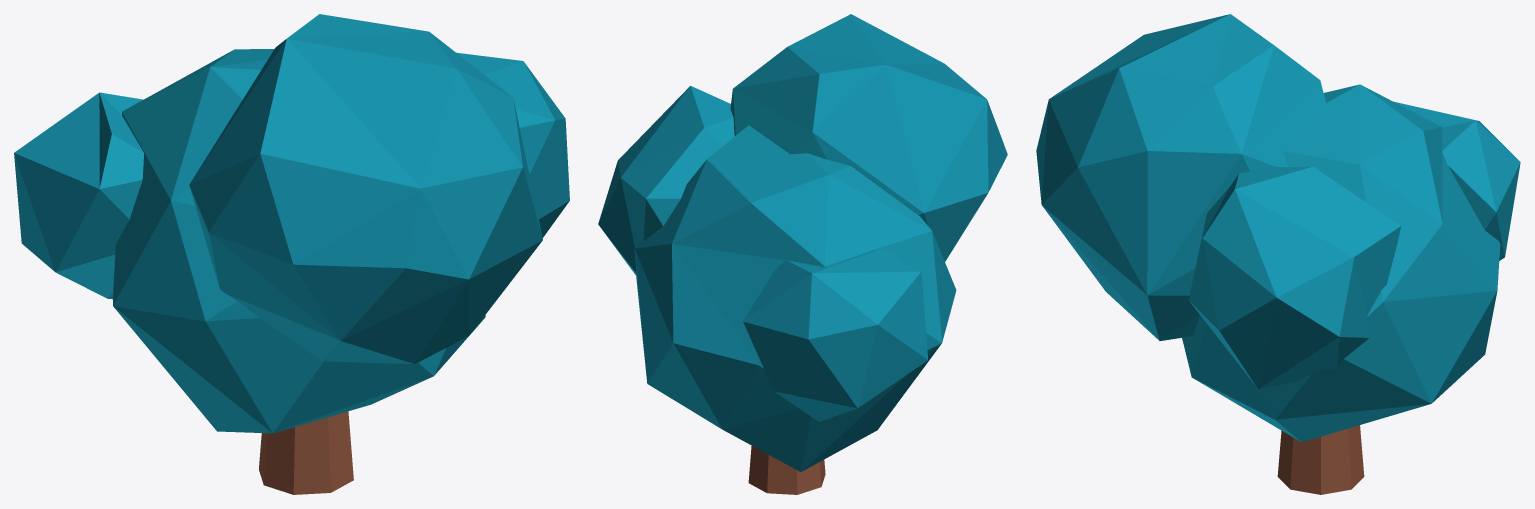
Rendered from Bush_5_summer_blue.fbx.
3 views of the same model, side by side, from view 1: azimuth 30°, elevation 25°; view 2: azimuth 150°, elevation 25°; view 3: azimuth 270°, elevation 25° (orthographic). The views are drawn at different scales.
Parts seen in each view (by area): view 1: Bush_5_summer_blue; view 2: Bush_5_summer_blue; view 3: Bush_5_summer_blue.
Boxes of the visible parts, x1,y1,x2,y2 form: Bush_5_summer_blue: (14, 14, 569, 494); Bush_5_summer_blue: (598, 14, 1007, 494); Bush_5_summer_blue: (1036, 14, 1520, 494).
Bounding box in the file's own units: 31.34 × 32.92 × 33.43.
